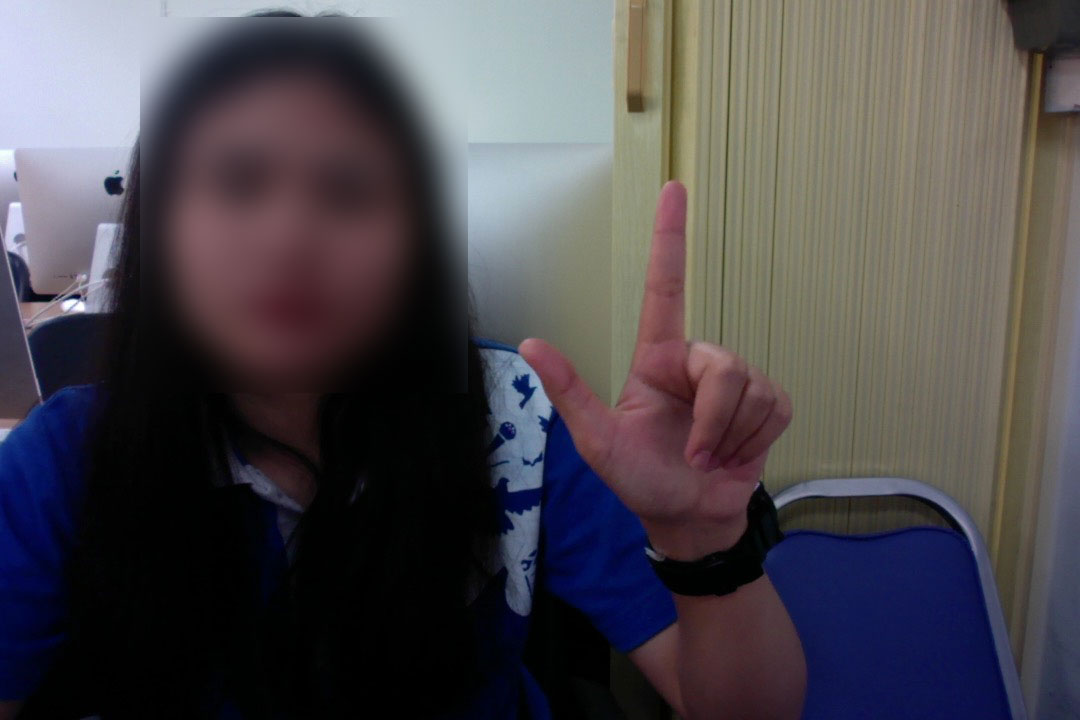lor: (506, 169, 795, 557)
